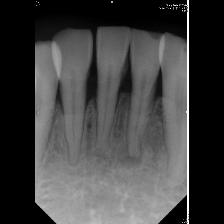apical_lesion: (117, 28, 166, 196)
